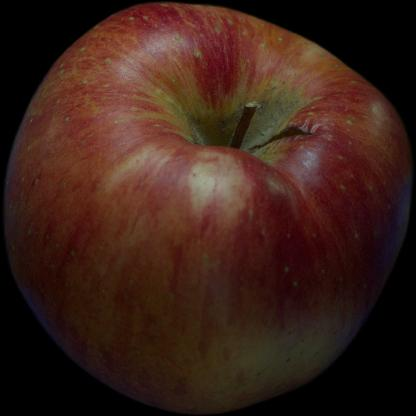defect: (250, 109, 354, 173)
